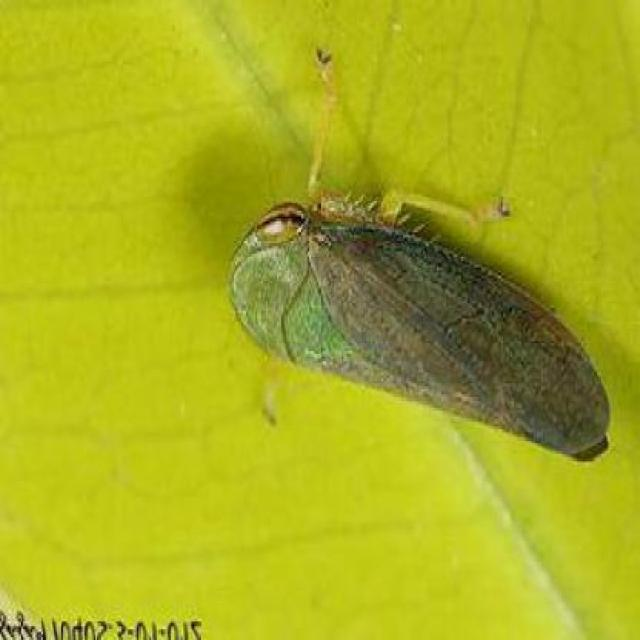green-leafhopper: (240, 189, 598, 451)
